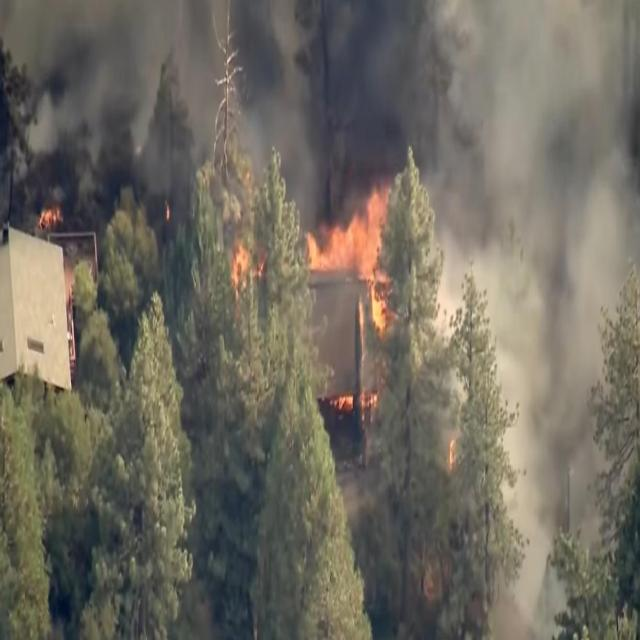Fire: (288, 175, 412, 427), (230, 238, 250, 304)
